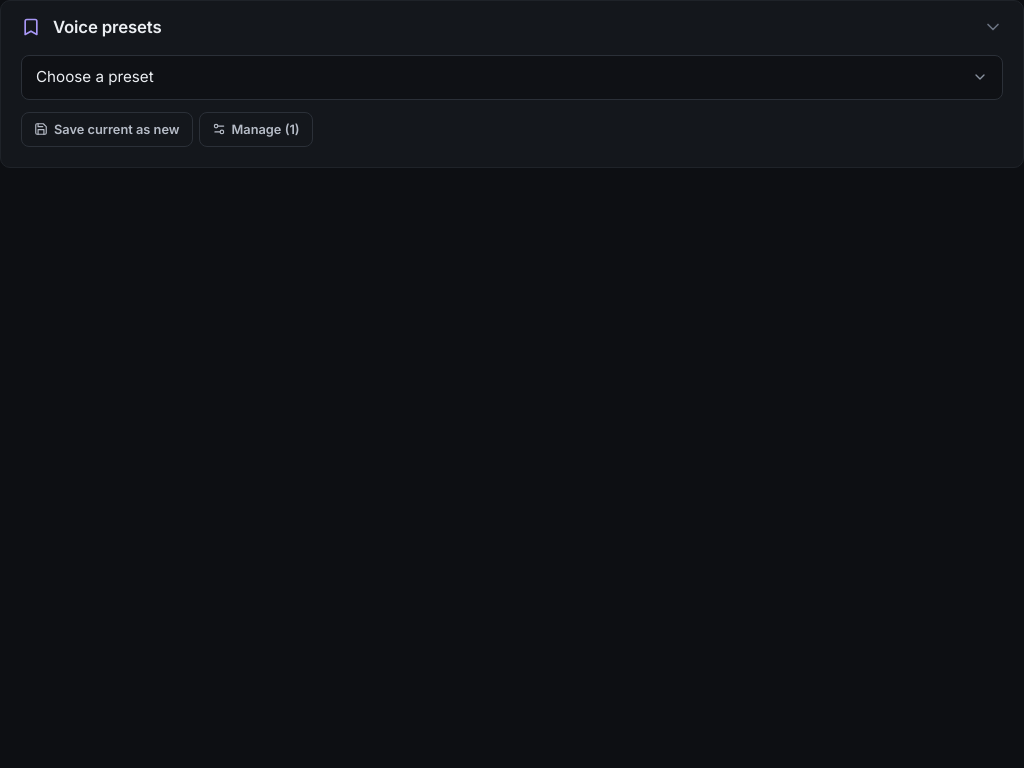
Scenario: PresetsPanel › opens the manager
Click the button "Manage (1)" at (256, 129), box [198, 112, 313, 147]
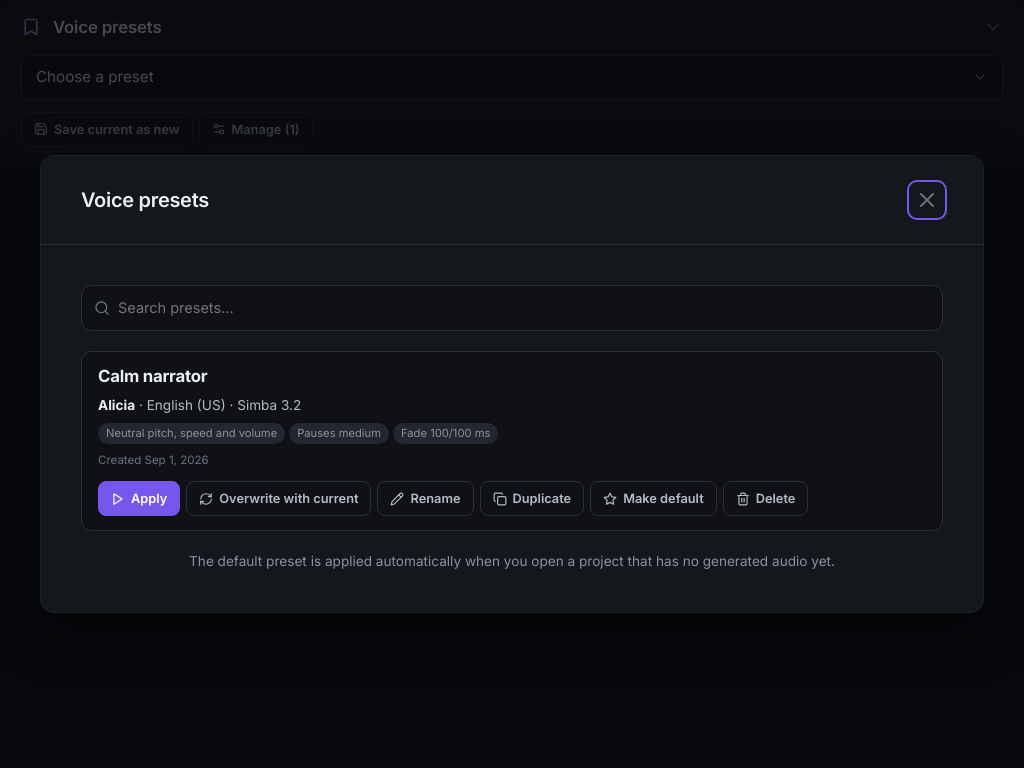
Now the dialog "Voice presets" is shown, box [40, 155, 984, 613]
